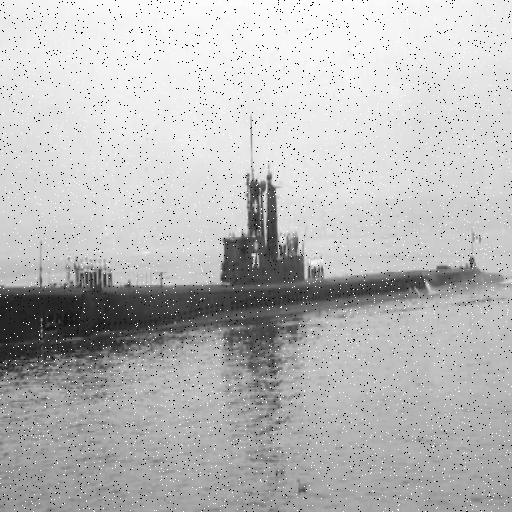submarine: (1, 184, 506, 353)
